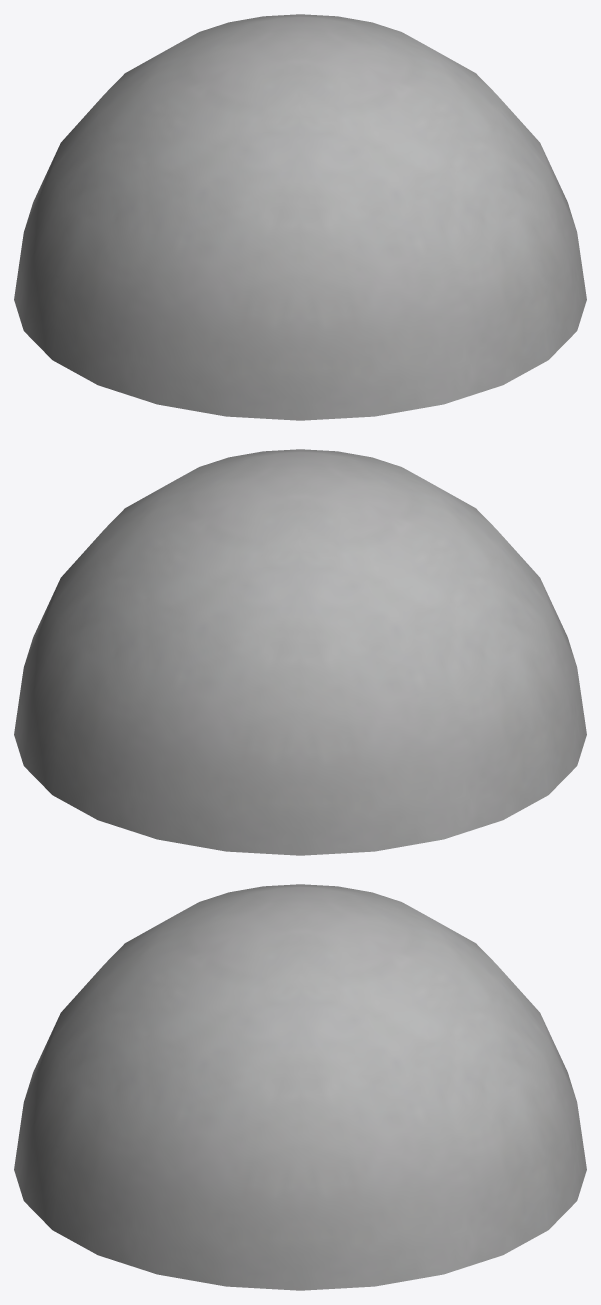
The model's file is us hemisphere.obj.
3 views of the same model, one above another, from view 1: azimuth 30°, elevation 25°; view 2: azimuth 150°, elevation 25°; view 3: azimuth 270°, elevation 25° (orthographic).
Visible parts, largest first — view 1: hemisphere; view 2: hemisphere; view 3: hemisphere.
Part boxes in pixels (box(x1,y1,x2,y2)): hemisphere: box(14, 14, 586, 420); hemisphere: box(14, 449, 586, 855); hemisphere: box(14, 884, 586, 1290).
Size of the model in its own units: 1.5 by 0.75 by 1.5.
